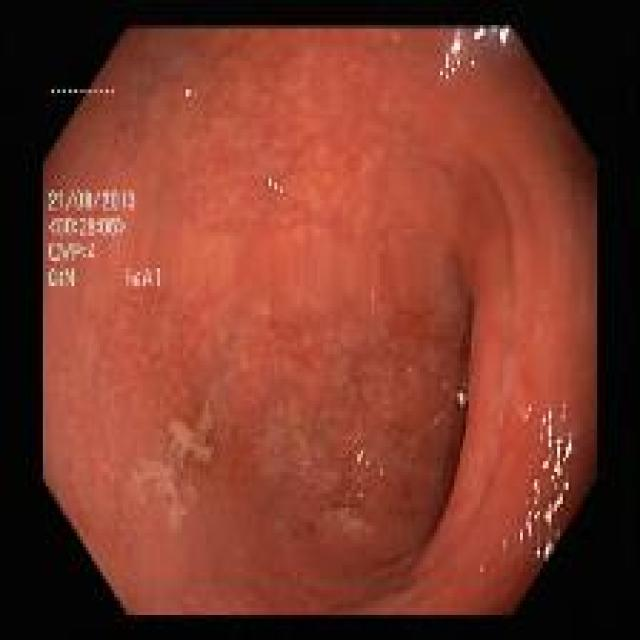ulcerative-colitis: (44, 27, 596, 615)
